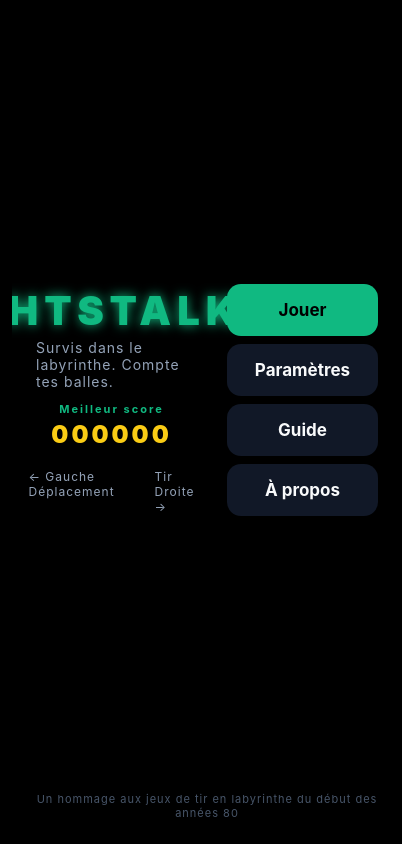
guide and about (AC-43, AC-44) › lists the 19 power-ups in 6 groups with label, description and duration or charges
Click the button with test id "home-guide".
click(302, 430)  # box top-left (227, 404), bottom-right (378, 456)
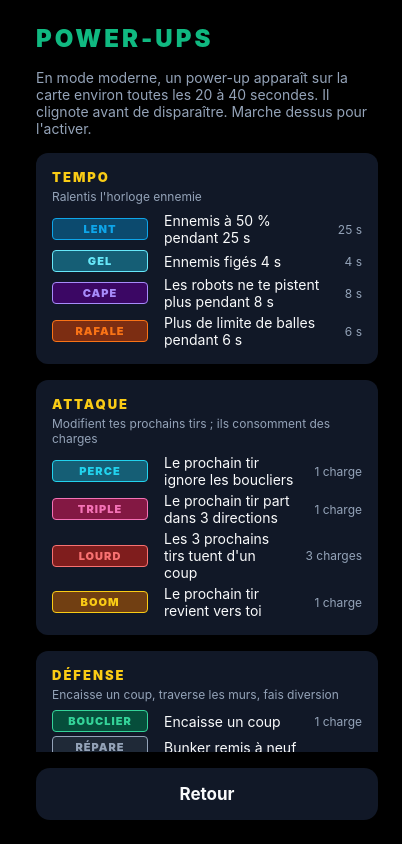
Check: the element with test id "guide-screen" is shown
Check: the text "Le prochain tir ignore les boucliers" is shown, box top-left (164, 454), bottom-right (298, 488)
Check: the text "Le prochain tir part dans 3 directions" is shown, box top-left (164, 492), bottom-right (298, 526)
